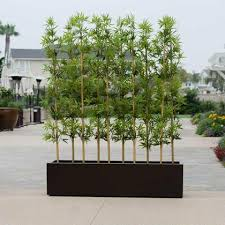bamboo: (46, 11, 183, 161)
